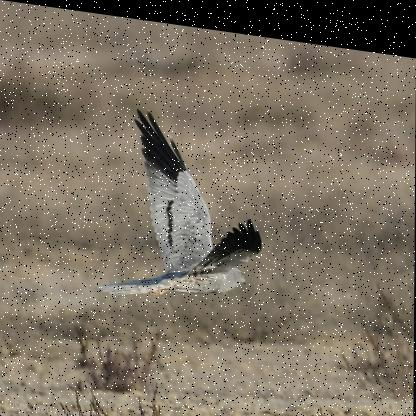Burung: (97, 96, 269, 311)
